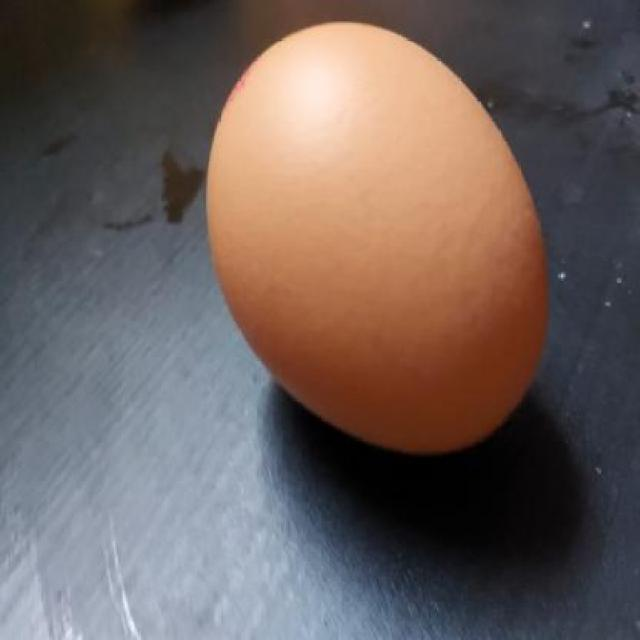biodegradable: (206, 19, 551, 456)
